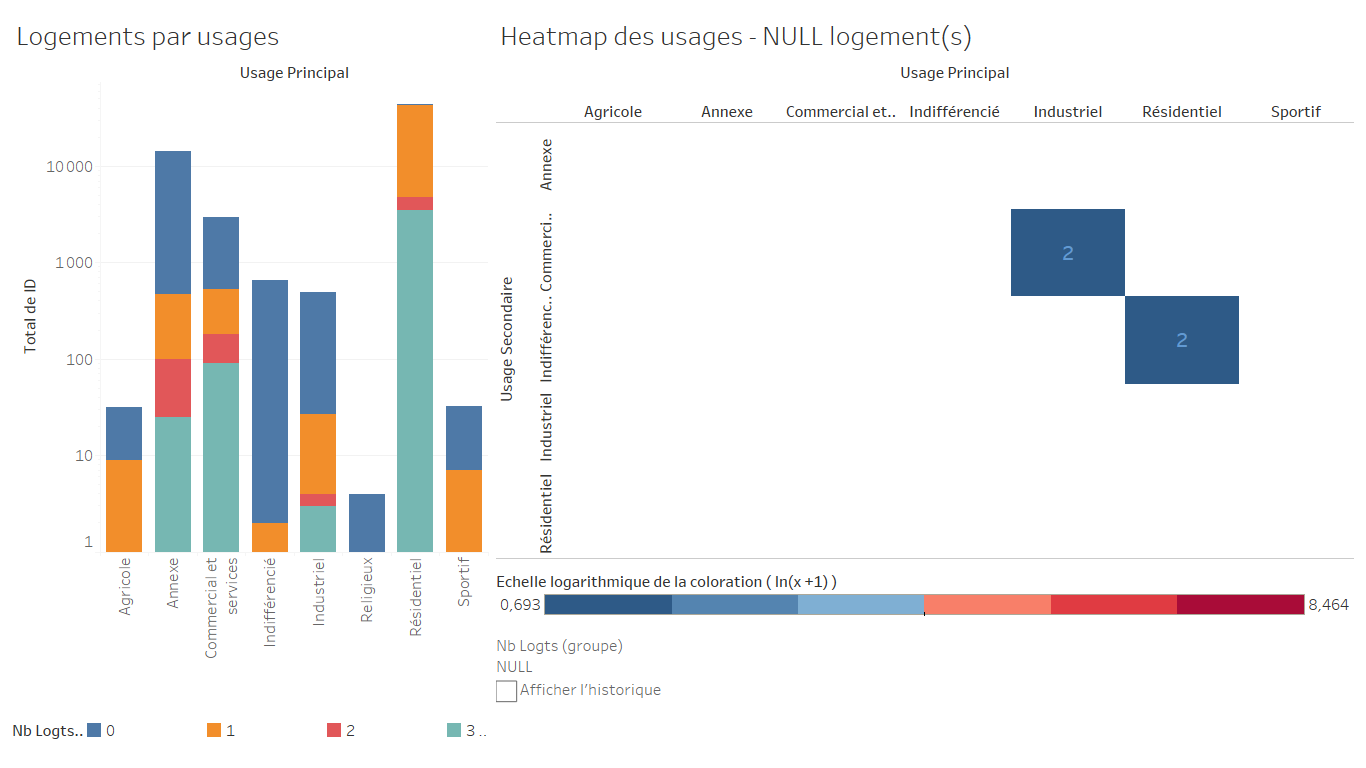

What the dashboard file says about the page in this screenshot:
{"tool":"tableau","page":{"name":"7. Usages principal et secondaire","canvas":[1366,768],"ordinal":1},"visuals":[{"type":"worksheet","title":"Logements par usages","mark":"Automatic","rows":["ID"],"cols":["USAGE1"],"box":[8,8,581,708]},{"type":"worksheet","title":"Heatmap des usages","mark":"Square","rows":["USAGE2"],"cols":["USAGE1"],"box":[589,8,769,555.4]},{"type":"legend","title":"Heatmap des usages","param":"[federated.06mmn4317dj143168h6sd1fldljp].[usr:Calculation_2118943649023188994:qk","box":[589,563.4,769,66.6]},{"type":"currpage","title":"Heatmap des usages","box":[589,630,769,130]},{"type":"legend","title":"Logements par usages","param":"[federated.06mmn4317dj143168h6sd1fldljp].[Nb Logts (groupe)]","box":[8,716,581,44]}]}

Visuals, with their boxes in screenshot pixels (x1, y1, x2, y2), scaled from the page's 1366x768 canvas onto the 1366x768 screenshot:
"Logements par usages" worksheet: crop(8, 8, 589, 716)
"Heatmap des usages" worksheet (Square marks): crop(589, 8, 1358, 563)
"Heatmap des usages" legend: crop(589, 563, 1358, 630)
"Heatmap des usages" currpage: crop(589, 630, 1358, 760)
"Logements par usages" legend: crop(8, 716, 589, 760)
